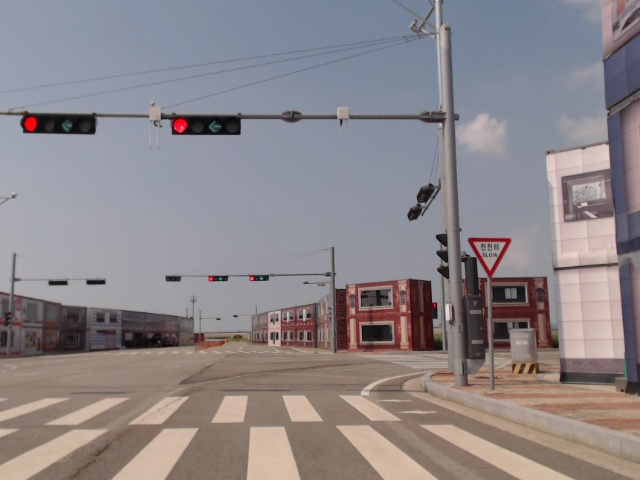left_green_4: (22, 114, 96, 136), (171, 117, 241, 136), (208, 275, 227, 282), (248, 275, 269, 281)
